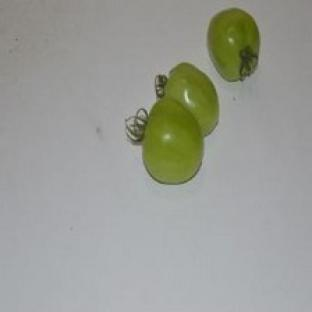Tomato: (138, 98, 203, 183), (156, 63, 218, 136), (208, 9, 260, 82)
